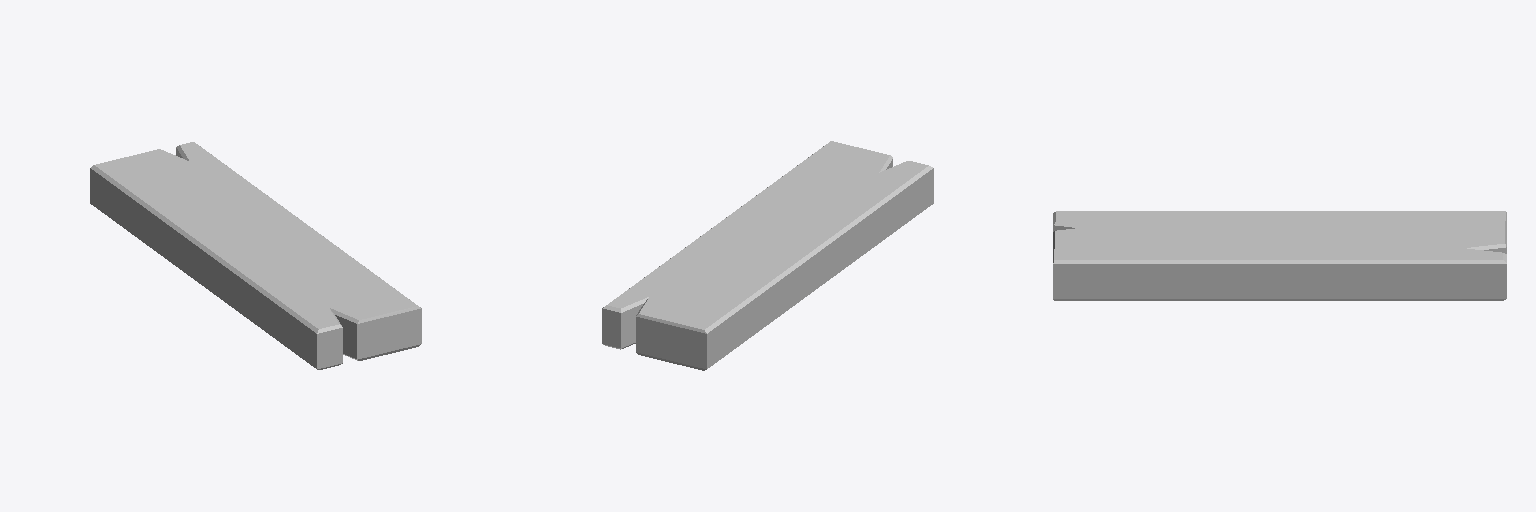
File: Wood_Plank_C.obj
3 renders of one model, left to right at view 1: azimuth 30°, elevation 25°; view 2: azimuth 150°, elevation 25°; view 3: azimuth 270°, elevation 25°, orthographic.
Visible parts, largest first — view 1: Wood_Plank_C; view 2: Wood_Plank_C; view 3: Wood_Plank_C.
Part boxes in pixels (x1,y1,x2,y2): Wood_Plank_C: (90,142,421,369); Wood_Plank_C: (602,141,933,370); Wood_Plank_C: (1053,211,1506,300).
Size of the model in its own units: 0.4 by 0.15 by 1.5.